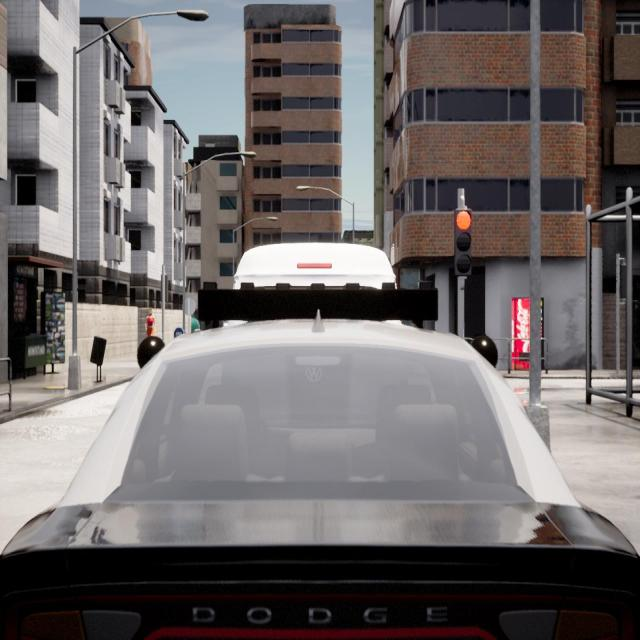Pedestrian: (145, 309, 155, 338)
Traffic_Signs: (183, 299, 195, 315)
Vehicle: (0, 322, 640, 638), (235, 244, 395, 288)
traffic_light: (454, 209, 474, 277), (620, 264, 627, 298), (165, 275, 168, 302)
